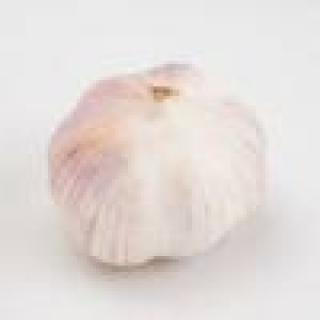Bawang Putih: (43, 62, 267, 273)
